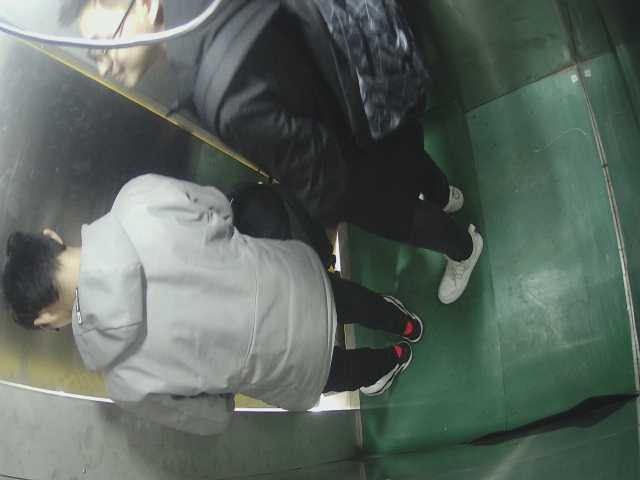bag: (302, 2, 445, 141)
person: (62, 1, 496, 273), (6, 189, 438, 415)
